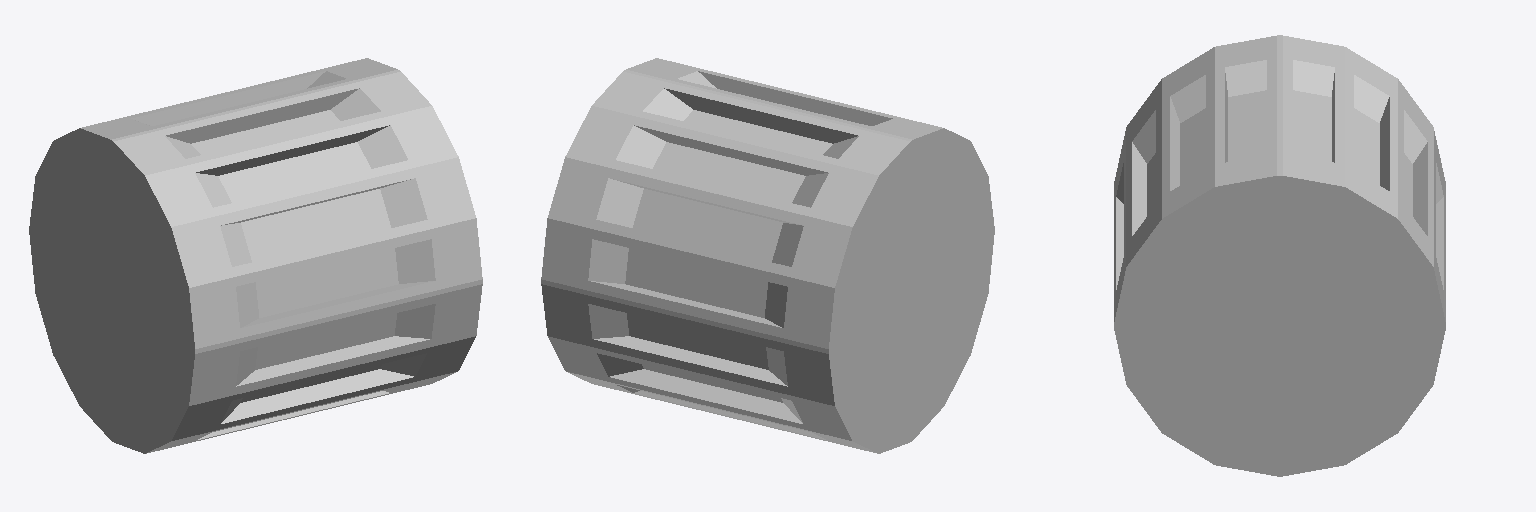
File: beam.obj
3 renders of one model, left to right at view 1: azimuth 30°, elevation 25°; view 2: azimuth 150°, elevation 25°; view 3: azimuth 270°, elevation 25°, orthographic.
Visible parts, largest first — view 1: Cube; view 2: Cube; view 3: Cube.
Part boxes in pixels (left/top/right/bottom): Cube: left=29, top=58, right=482, bottom=453; Cube: left=541, top=58, right=994, bottom=453; Cube: left=1114, top=35, right=1445, bottom=476.
Bounding box in the file's own units: 2 × 2 × 2.